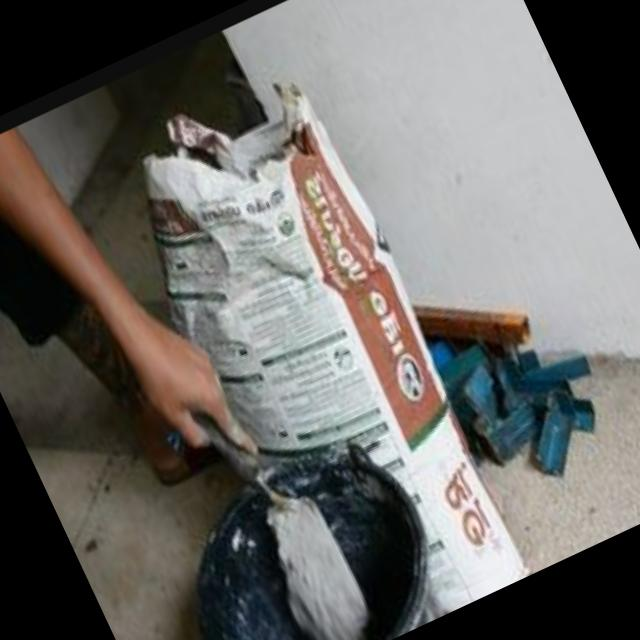KantongSemen: (82, 57, 543, 640)
